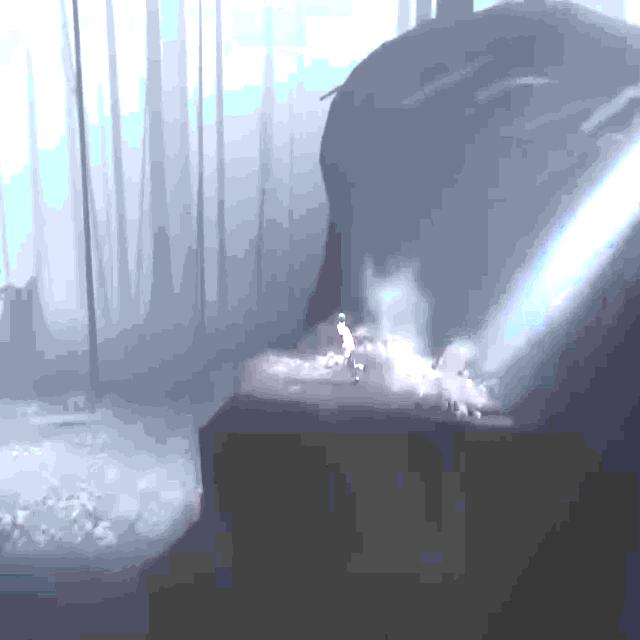boy: (336, 314, 362, 372)
